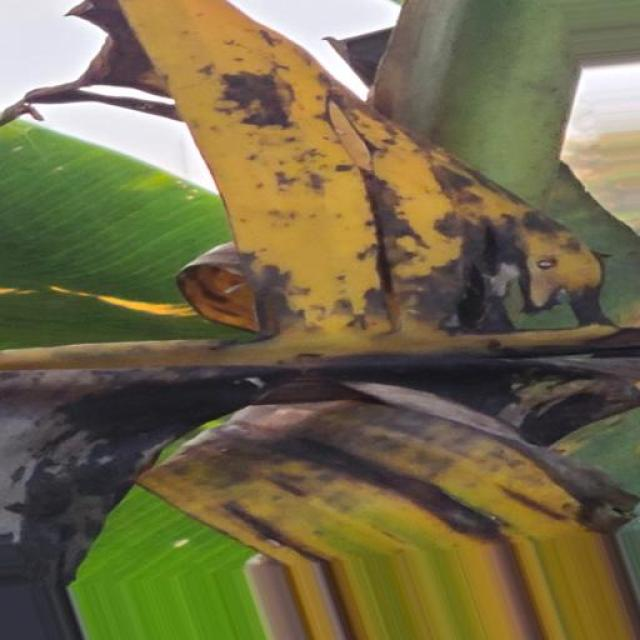Cordana: (58, 3, 640, 616)
